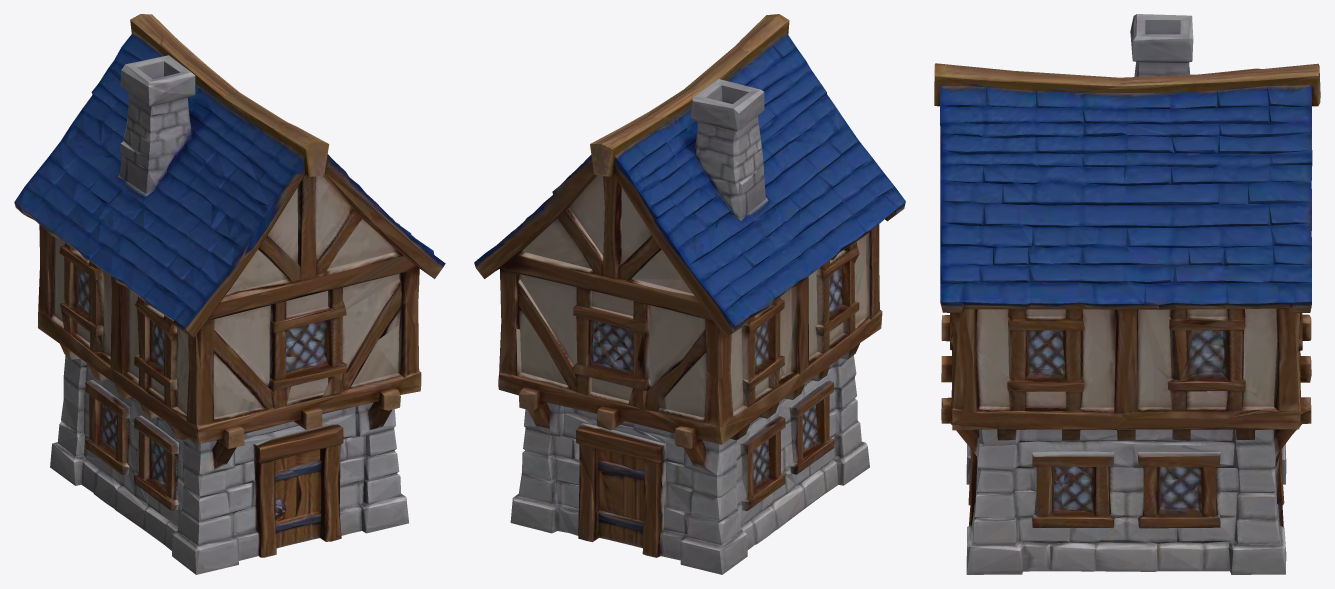
File: oc_house_b.glb
3 renders of one model, left to right at view 1: azimuth 30°, elevation 25°; view 2: azimuth 150°, elevation 25°; view 3: azimuth 270°, elevation 25°, orthographic. The views are drawn at different scales.
Visible parts, largest first — view 1: W_house_b; view 2: W_house_b; view 3: W_house_b.
Boxes of the visible parts, <box> form: W_house_b: <box>14,14,445,574</box>; W_house_b: <box>474,14,905,574</box>; W_house_b: <box>934,14,1320,574</box>.
Bounding box in the file's own units: 6.47 × 10 × 7.53.
1 material, 1 textured.
